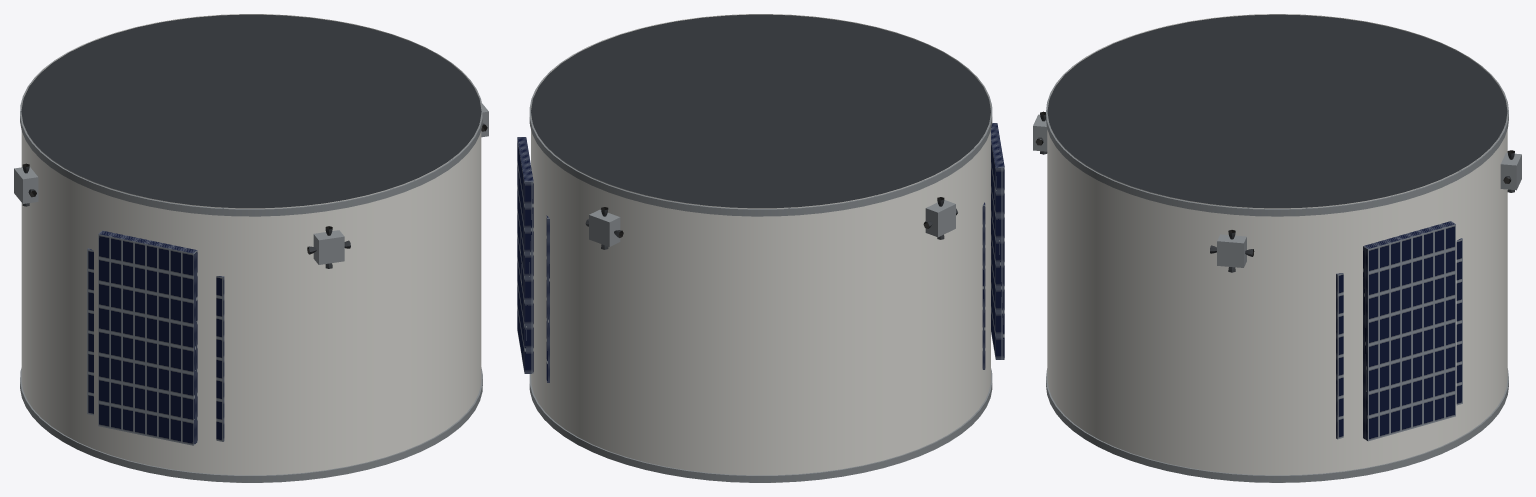
File: mengzhou_sm.glb
3 renders of one model, left to right at view 1: azimuth 30°, elevation 25°; view 2: azimuth 150°, elevation 25°; view 3: azimuth 270°, elevation 25°, orthographic.
Visible parts, largest first — view 1: body, slot_power; view 2: body, slot_power; view 3: body, slot_power.
Part boxes in pixels (x1=…): body: x1=14, y1=14, x2=488, y2=482; slot_power: x1=87, y1=248, x2=224, y2=441; body: x1=517, y1=14, x2=1004, y2=482; slot_power: x1=546, y1=202, x2=985, y2=382; body: x1=1033, y1=14, x2=1521, y2=482; slot_power: x1=1336, y1=238, x2=1462, y2=439.
Size of the model in its own units: 3.23 by 2.01 by 3.23.
10 materials, 1 textured.
